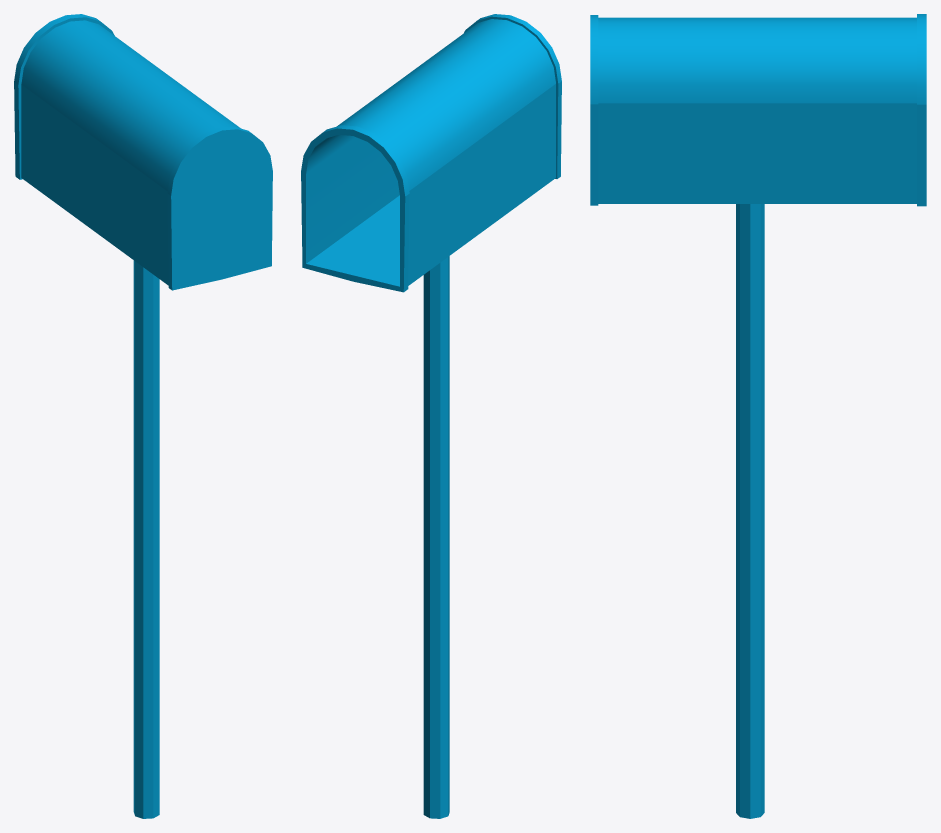
File: Mailbox_01_Lod0.fbx
3 renders of one model, left to right at view 1: azimuth 30°, elevation 25°; view 2: azimuth 150°, elevation 25°; view 3: azimuth 270°, elevation 25°, orthographic. The views are drawn at different scales.
Visible parts, largest first — view 1: Mailbox_01_Lod0; view 2: Mailbox_01_Lod0; view 3: Mailbox_01_Lod0.
Boxes of the visible parts, left/top/right/bottom form: Mailbox_01_Lod0: left=14, top=14, right=272, bottom=818; Mailbox_01_Lod0: left=301, top=14, right=561, bottom=818; Mailbox_01_Lod0: left=590, top=14, right=926, bottom=818.
Size of the model in its own units: 20.82 by 142 by 54.48.
